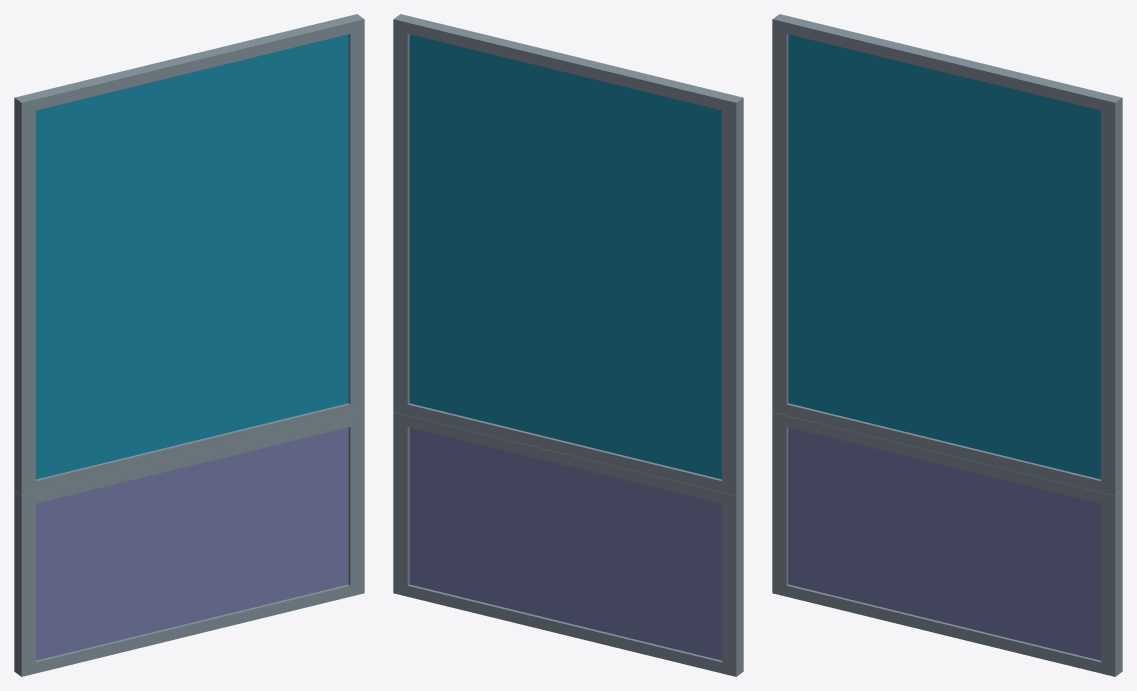
The model's file is Window.fbx.
3 renders of one model, left to right at view 1: azimuth 30°, elevation 25°; view 2: azimuth 150°, elevation 25°; view 3: azimuth 330°, elevation 25°, orthographic.
Visible parts, largest first — view 1: Cube.223, Cube.206; view 2: Cube.223, Cube.206; view 3: Cube.223, Cube.206.
Part boxes in pixels (x1,y1,x2,y2): Cube.223: [14, 14, 364, 495]; Cube.206: [14, 412, 364, 676]; Cube.223: [393, 14, 743, 495]; Cube.206: [393, 412, 743, 676]; Cube.223: [772, 14, 1122, 495]; Cube.206: [772, 412, 1122, 676].
Bounding box in the file's own units: 736 × 1178 × 26.7.
